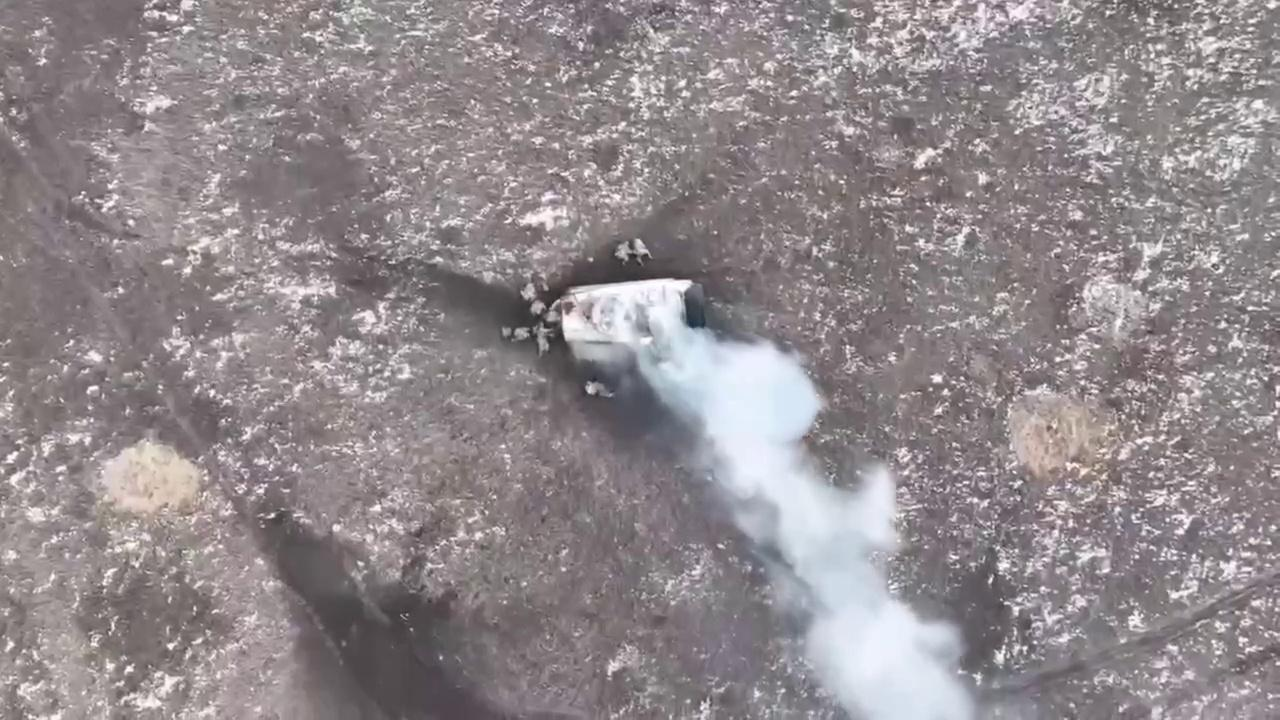person: (631, 235, 652, 270), (584, 377, 616, 398), (536, 323, 554, 360), (510, 324, 532, 344), (614, 239, 628, 270), (525, 300, 549, 318), (520, 279, 538, 302), (499, 326, 512, 340)
vehicle: (558, 277, 704, 349)
